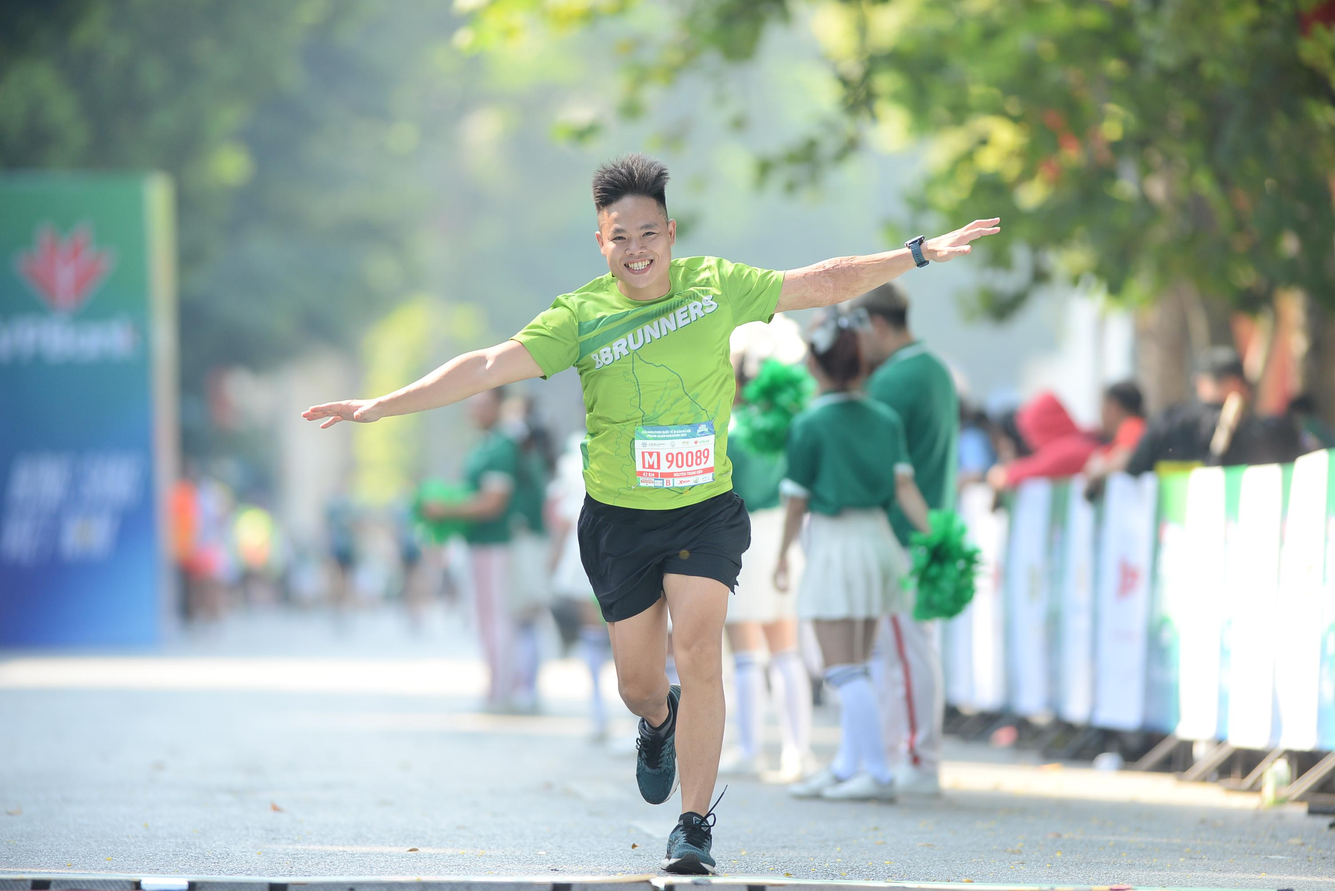bib: (632, 420, 716, 488)
